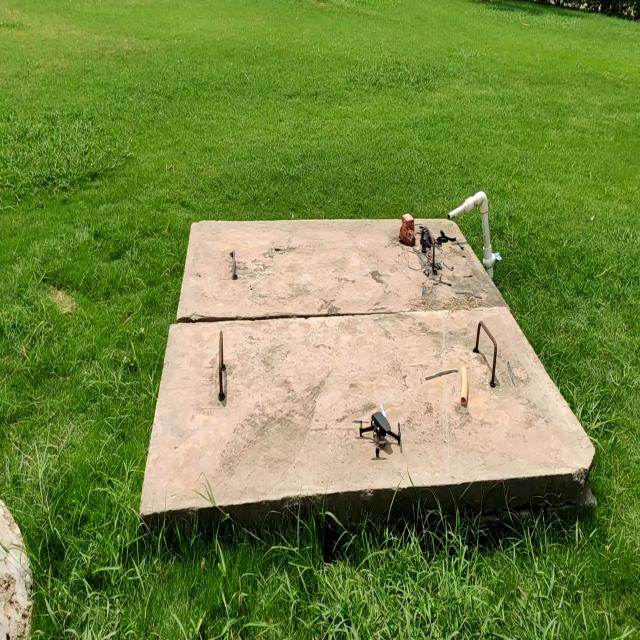drone: (348, 402, 419, 466)
